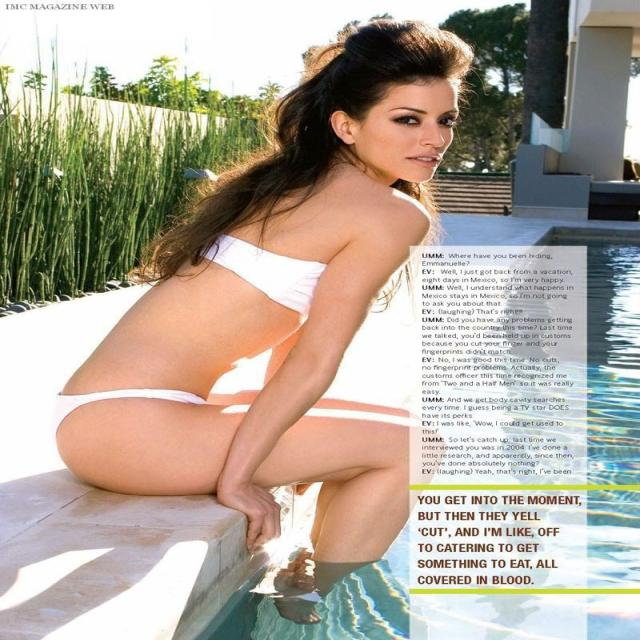no-earmuff: (318, 99, 366, 170)
